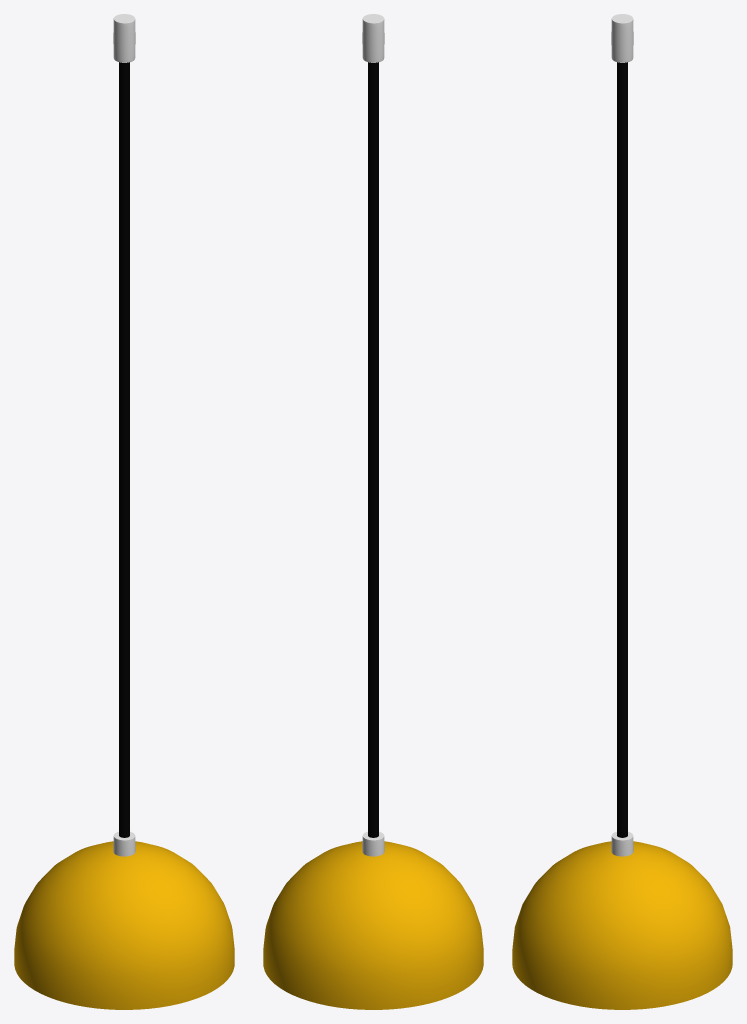
Rendered from hangingLamp.glb.
The picture shows the model from 3 angles, left to right: view 1: azimuth 30°, elevation 25°; view 2: azimuth 150°, elevation 25°; view 3: azimuth 270°, elevation 25°; orthographic projection.
Visible parts, largest first — view 1: Cylinder - baked, Cylinder, Cylinder 1; view 2: Cylinder - baked, Cylinder, Cylinder 1; view 3: Cylinder - baked, Cylinder, Cylinder 1.
Boxes of the visible parts, x1,y1,x2,y2 form: Cylinder - baked: (14, 841, 234, 1009); Cylinder: (119, 62, 129, 837); Cylinder 1: (113, 14, 135, 62); Cylinder - baked: (263, 841, 483, 1009); Cylinder: (368, 62, 378, 837); Cylinder 1: (362, 14, 384, 62); Cylinder - baked: (512, 841, 732, 1009); Cylinder: (617, 62, 627, 837); Cylinder 1: (611, 14, 633, 62).
Bounding box in the file's own units: 0.1 × 0.4728 × 0.1.
